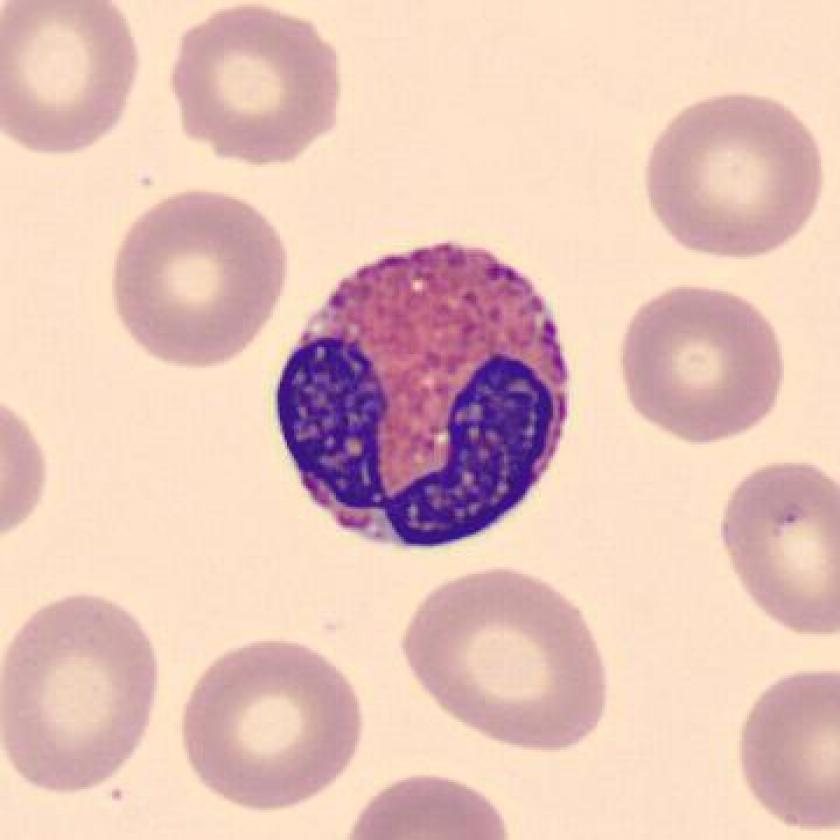eosinophil: (269, 228, 580, 556)
